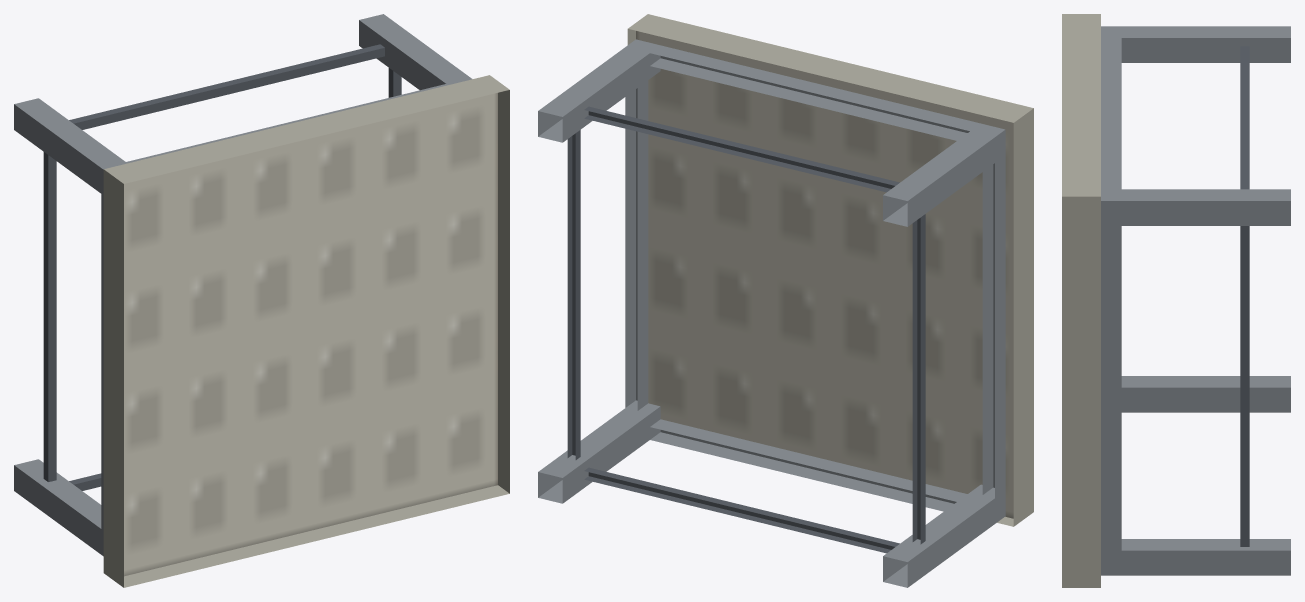
Rendered from pot_flood_empty.obj.
3 renders of one model, left to right at view 1: azimuth 30°, elevation 25°; view 2: azimuth 150°, elevation 25°; view 3: azimuth 270°, elevation 25°, orthographic. The views are drawn at different scales.
Bounding box in the file's own units: 0.94 × 0.94 × 0.498.
Materials: 1 (1 with a texture image).
